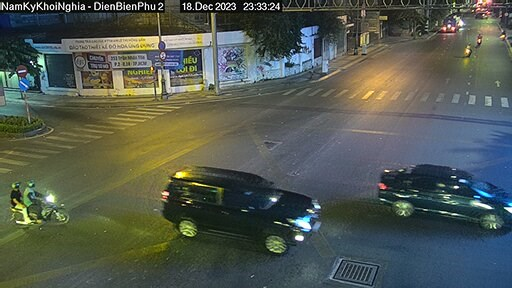car: (147, 154, 324, 262), (370, 147, 512, 238)
motorbike: (2, 180, 66, 231)
